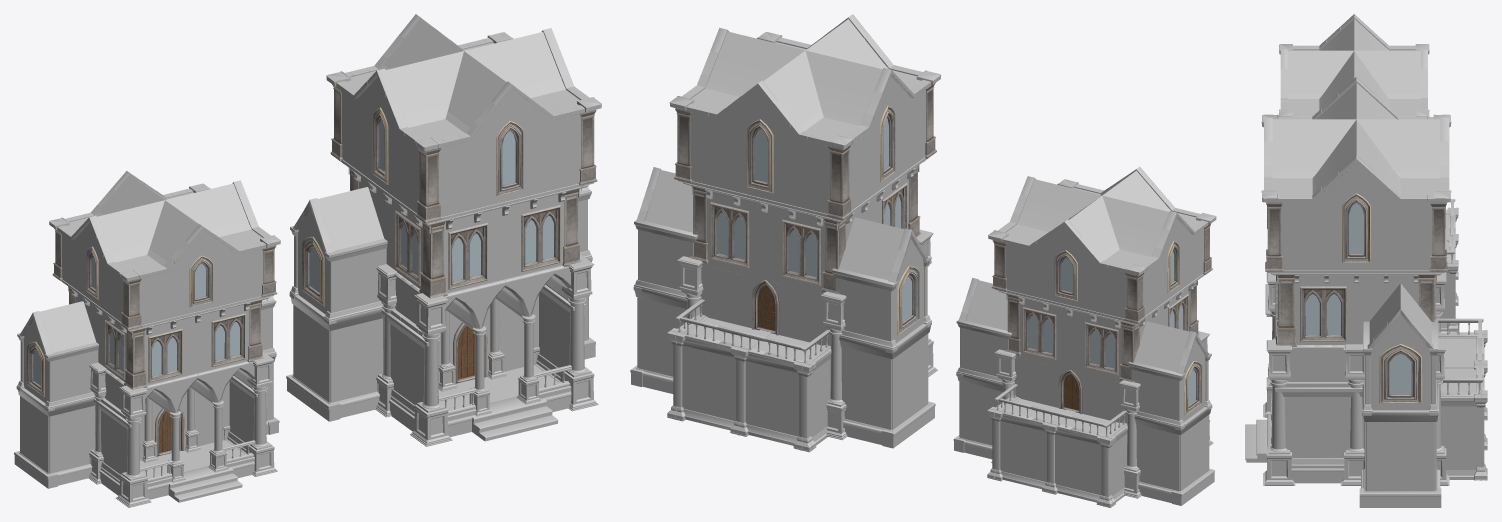
Rendered from City_Home_A.fbx.
The picture shows the model from 3 angles, left to right: view 1: azimuth 30°, elevation 25°; view 2: azimuth 150°, elevation 25°; view 3: azimuth 270°, elevation 25°; orthographic projection. The views are drawn at different scales.
Parts seen in each view (by area): view 1: City_Home_A2, City_Home_A1; view 2: City_Home_A2, City_Home_A1; view 3: City_Home_A2, City_Home_A1.
Boxes of the visible parts, left/top/right/bottom form: City_Home_A2: left=286, top=14, right=601, bottom=446; City_Home_A1: left=14, top=171, right=280, bottom=507; City_Home_A2: left=630, top=14, right=941, bottom=452; City_Home_A1: left=953, top=167, right=1216, bottom=507; City_Home_A2: left=1245, top=77, right=1487, bottom=507; City_Home_A1: left=1265, top=14, right=1458, bottom=332.
Bounding box in the file's own units: 3479 × 2076 × 1384.
